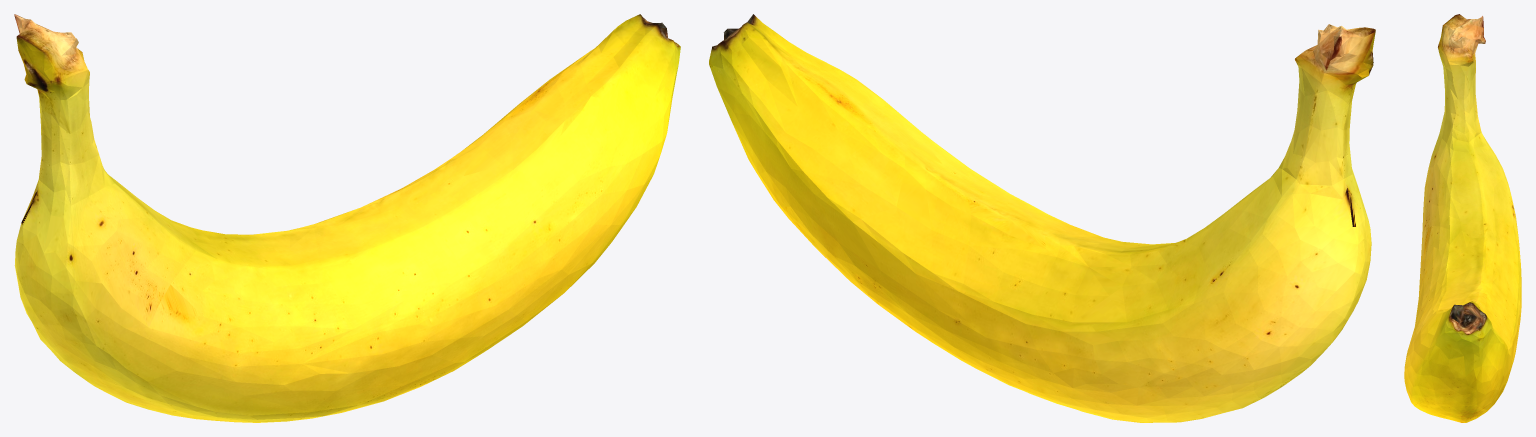
Rendered from banana-v1-transformed.glb.
3 renders of one model, left to right at view 1: azimuth 30°, elevation 25°; view 2: azimuth 150°, elevation 25°; view 3: azimuth 270°, elevation 25°, orthographic. The views are drawn at different scales.
Visible parts, largest first — view 1: banana; view 2: banana; view 3: banana.
Part boxes in pixels (x1,y1,x2,y2): banana: (14,14,680,422); banana: (709,14,1375,422); banana: (1404,14,1521,422).
Bounding box in the file's own units: 6.79 × 4.44 × 1.61.
1 material, 1 textured.
